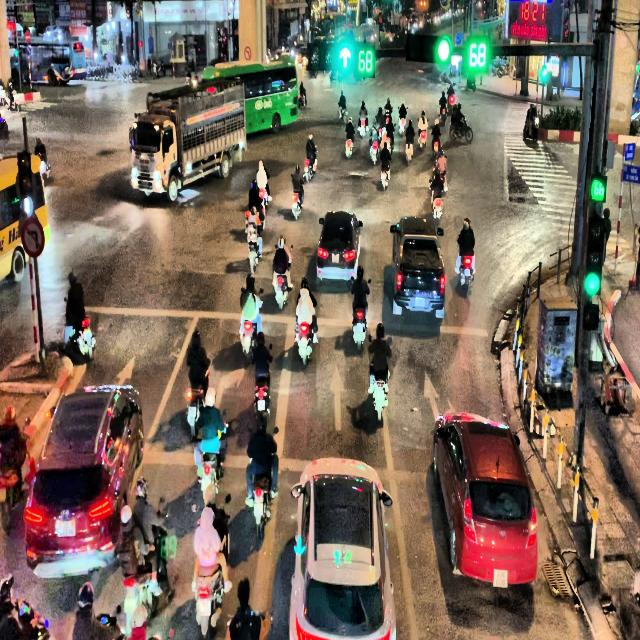lisence_plate: (54, 516, 76, 538), (492, 567, 508, 589), (331, 253, 340, 266), (414, 298, 425, 308)
